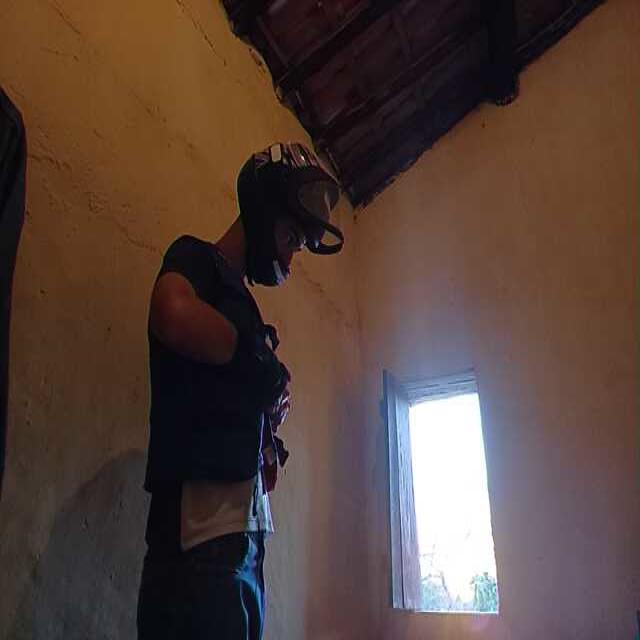capacete: (241, 145, 342, 281)
colete: (159, 229, 283, 496)
pessoa: (145, 169, 317, 640)
